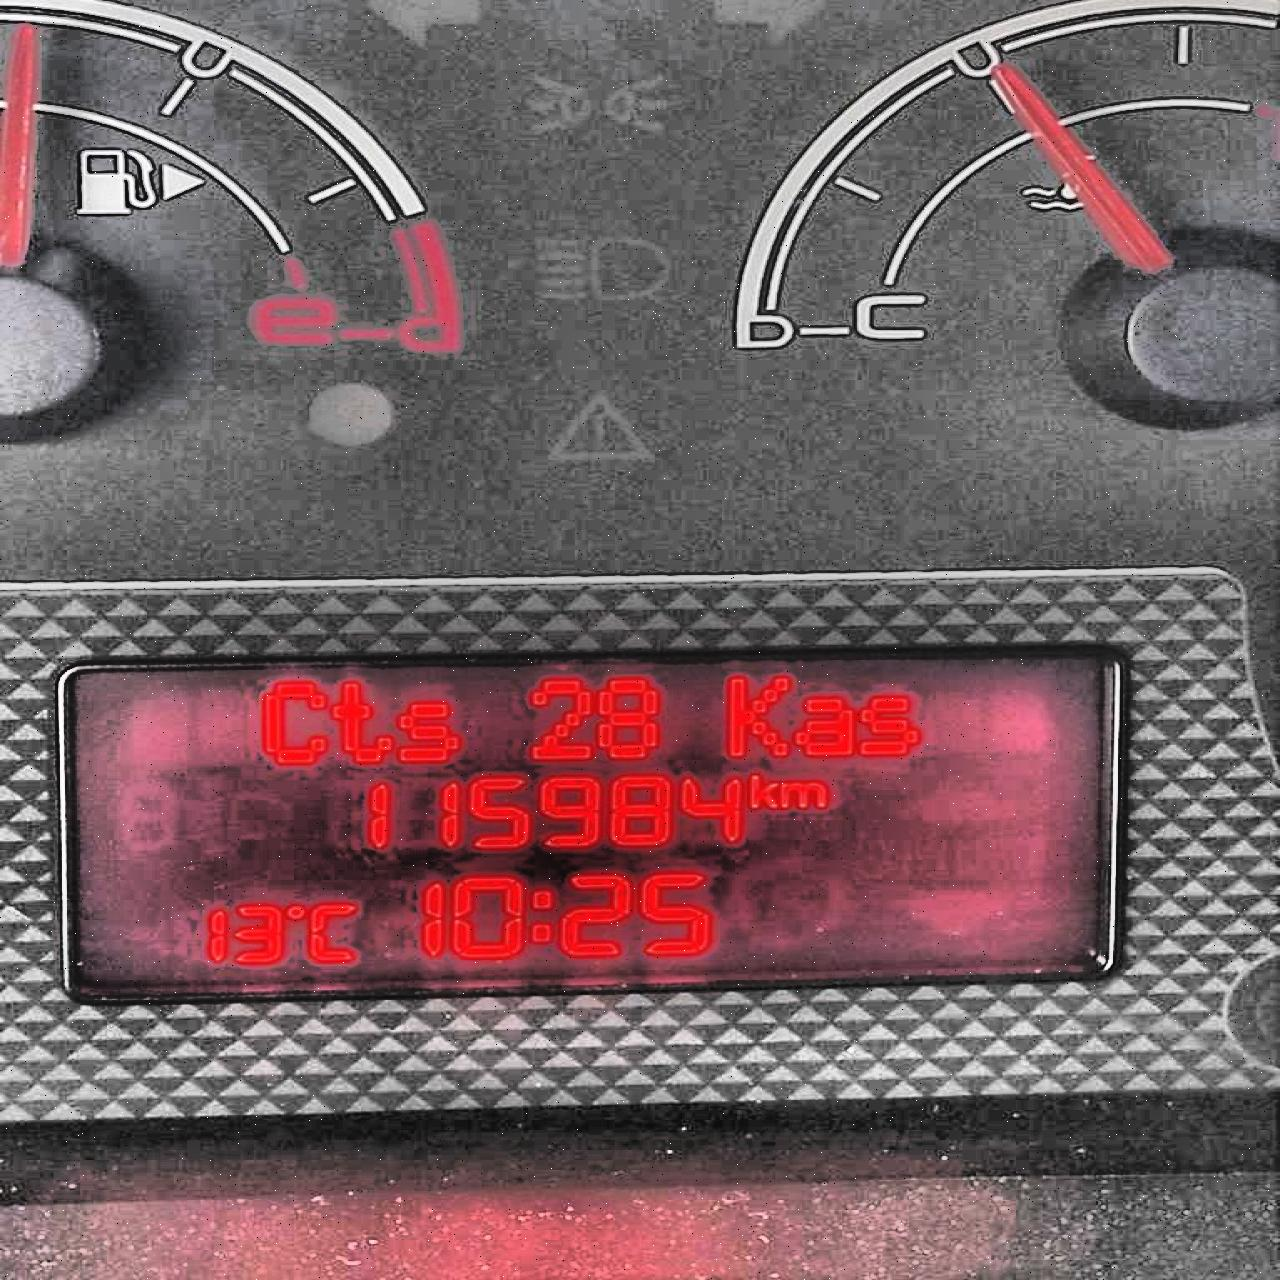0: (451, 873, 523, 959)
1: (361, 778, 401, 851), (417, 877, 444, 965), (434, 776, 463, 850), (206, 903, 227, 967)
2: (561, 869, 632, 960), (526, 673, 594, 763)
3: (231, 901, 285, 967)
4: (680, 776, 742, 842)
5: (633, 869, 714, 955), (468, 774, 533, 850)
8: (598, 674, 665, 760), (605, 772, 673, 845)
9: (537, 774, 599, 847)
X: (722, 669, 792, 760), (258, 678, 327, 764), (327, 680, 395, 764), (395, 697, 464, 763), (858, 690, 922, 760), (792, 693, 855, 757), (307, 900, 361, 971), (777, 777, 829, 813), (527, 884, 557, 947), (744, 771, 775, 811)
odometer: (48, 644, 1137, 1017)
